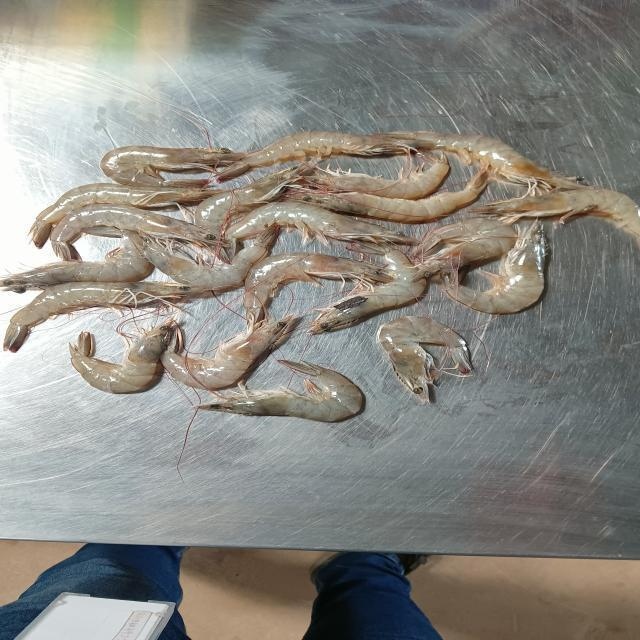shrimp: (2, 281, 206, 352), (29, 182, 228, 249), (383, 131, 587, 190), (308, 245, 427, 334), (159, 314, 297, 390), (288, 170, 487, 222), (197, 360, 363, 422), (243, 252, 392, 321), (49, 204, 228, 261), (217, 131, 410, 181), (445, 224, 547, 314), (0, 236, 155, 292), (226, 201, 416, 245), (142, 228, 277, 289), (376, 316, 471, 402), (195, 162, 312, 231), (69, 319, 175, 394), (471, 189, 640, 236), (303, 155, 449, 200), (100, 145, 246, 188), (416, 219, 518, 275)
